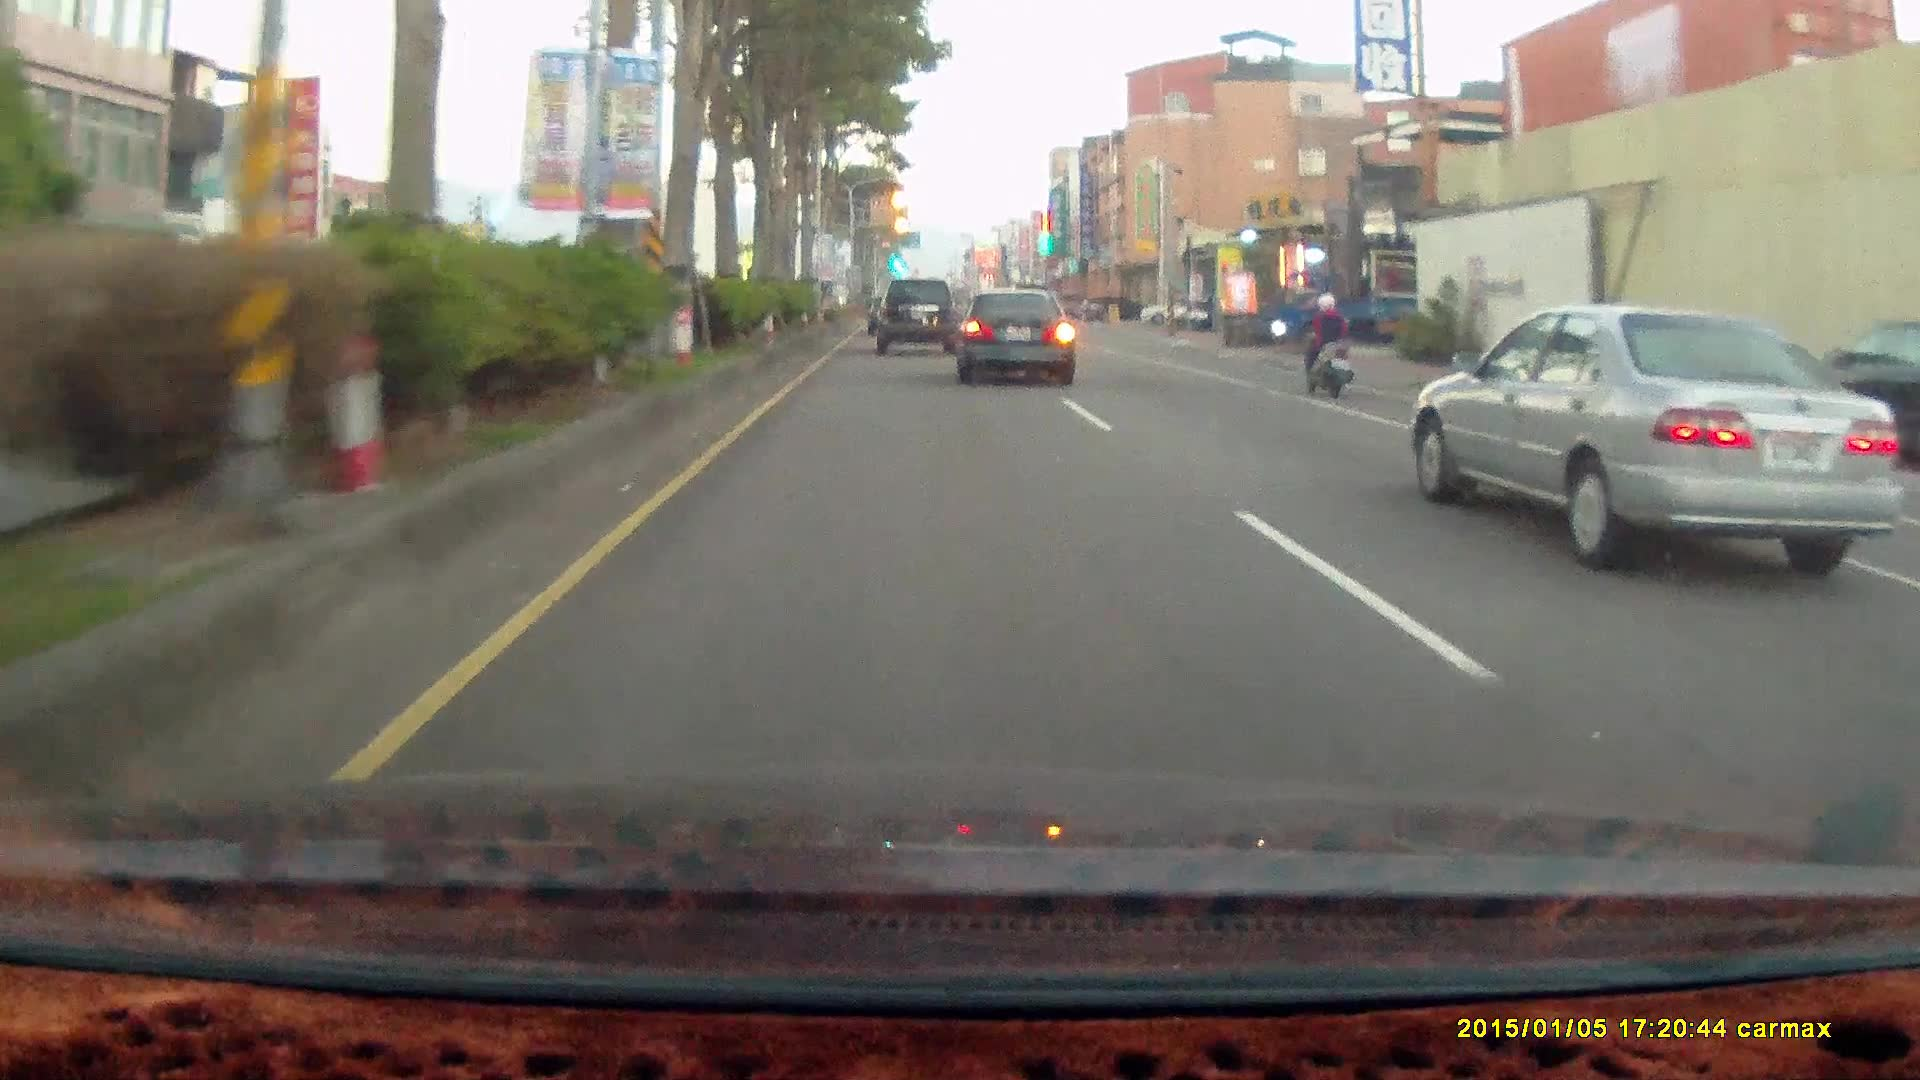rider: (1288, 283, 1365, 407), (1296, 291, 1353, 400)
vehicle: (1413, 305, 1900, 575), (1410, 302, 1892, 565), (1267, 269, 1465, 354), (951, 287, 1075, 387), (1272, 268, 1425, 347), (960, 294, 1084, 389), (875, 279, 959, 353), (877, 283, 961, 354), (1139, 296, 1202, 326), (1084, 295, 1149, 321)
